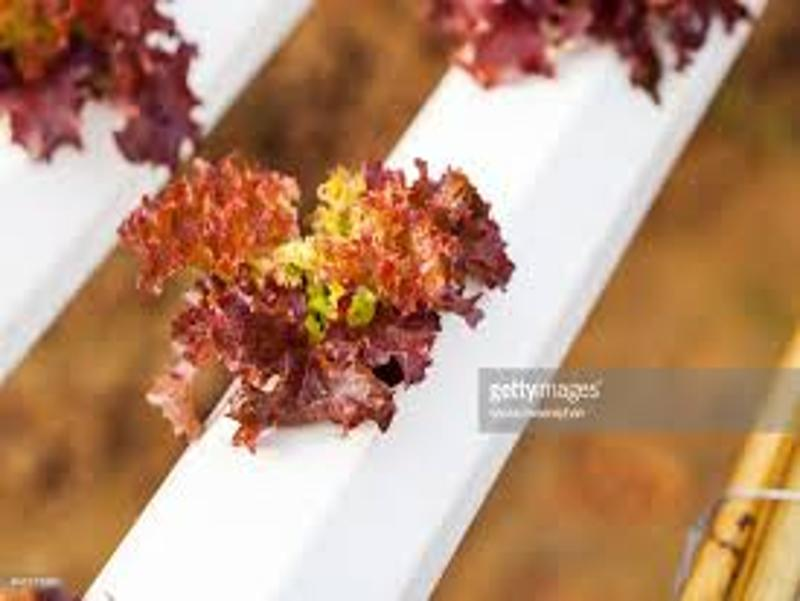red lettuce: (140, 161, 508, 435), (2, 1, 215, 175)
